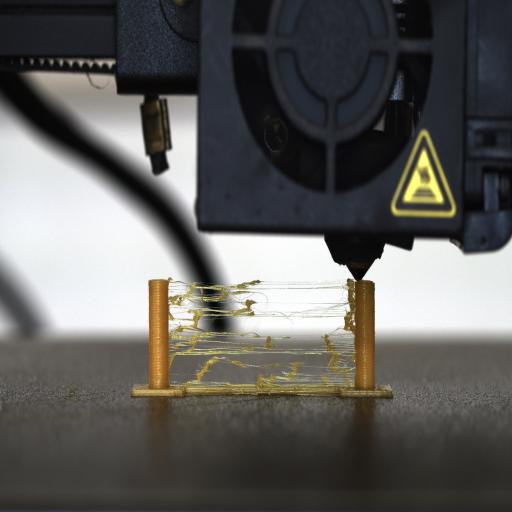stringing: (168, 275, 356, 387)
